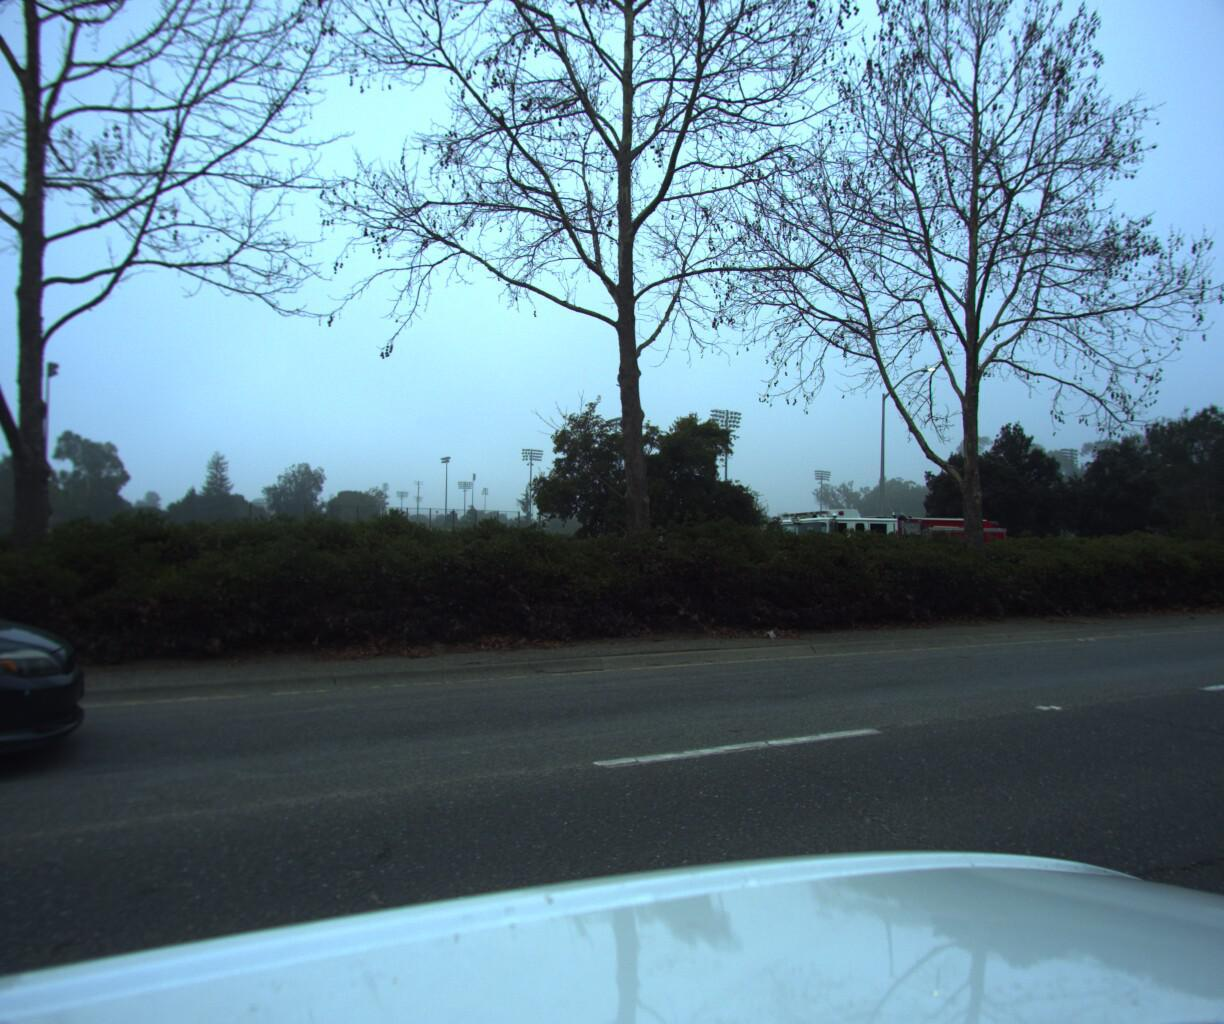car: (0, 528, 112, 936)
emergency_vehicle: (763, 498, 1013, 586)
